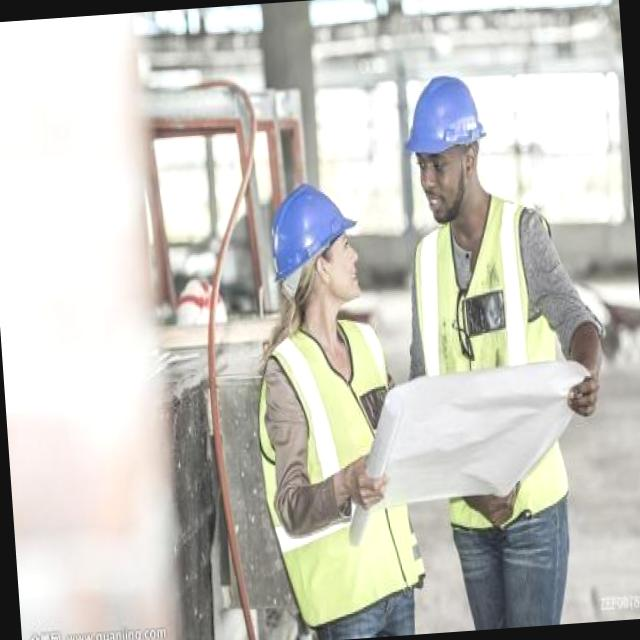helmet: (396, 59, 510, 180), (256, 178, 364, 296)
vest: (402, 206, 576, 532), (255, 315, 425, 640)
